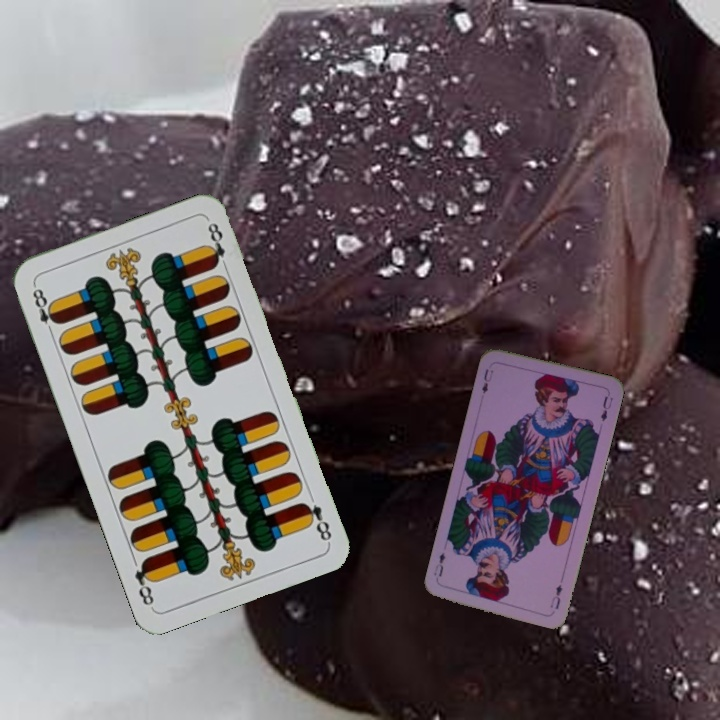E8: (28, 280, 62, 338), (297, 498, 335, 545)
EU: (546, 580, 565, 612), (478, 365, 496, 396)
